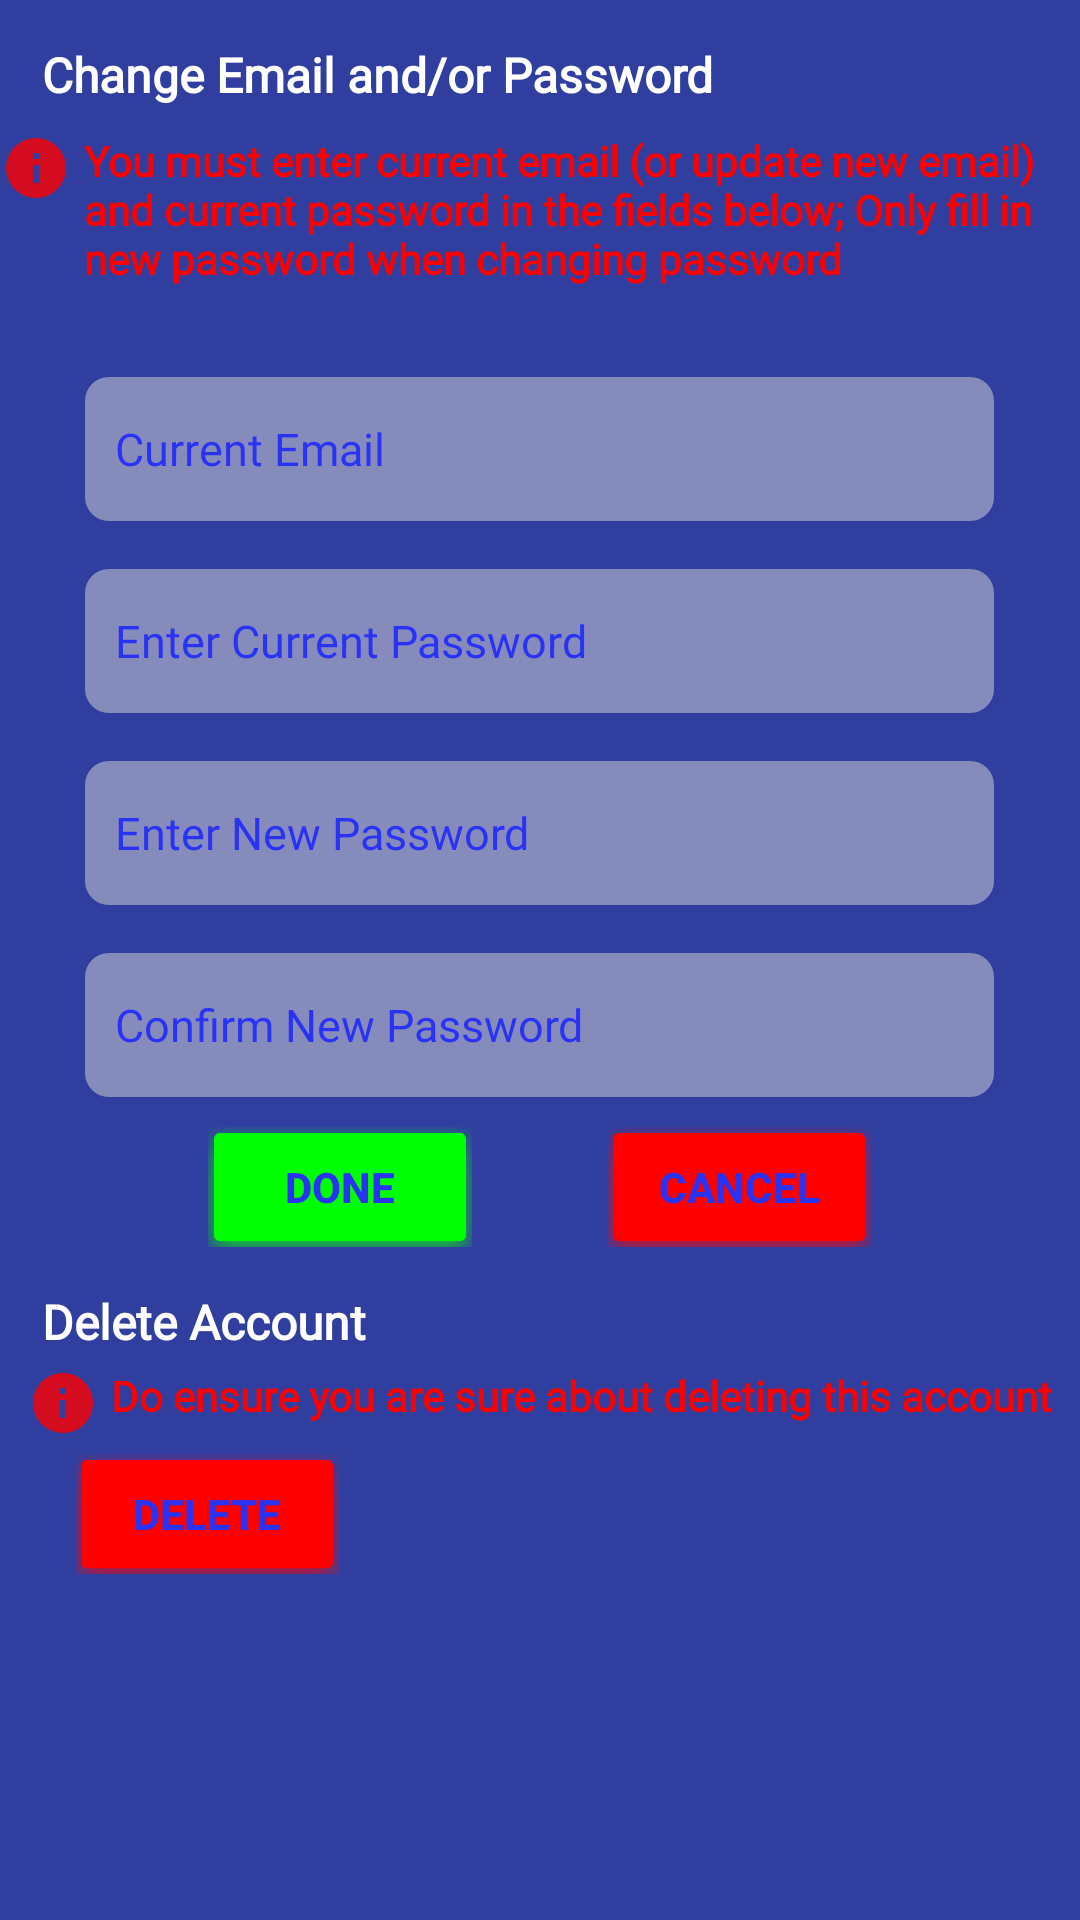

Named icons in this screenshot (1080 x 1920) and their centers, (x=x, y=y):
info: (x=36, y=168), (x=63, y=1403)
